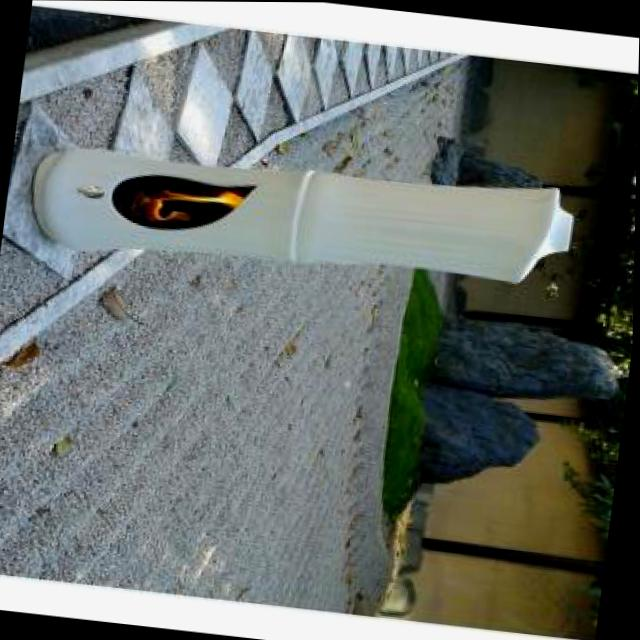helmet: (115, 170, 242, 232)
